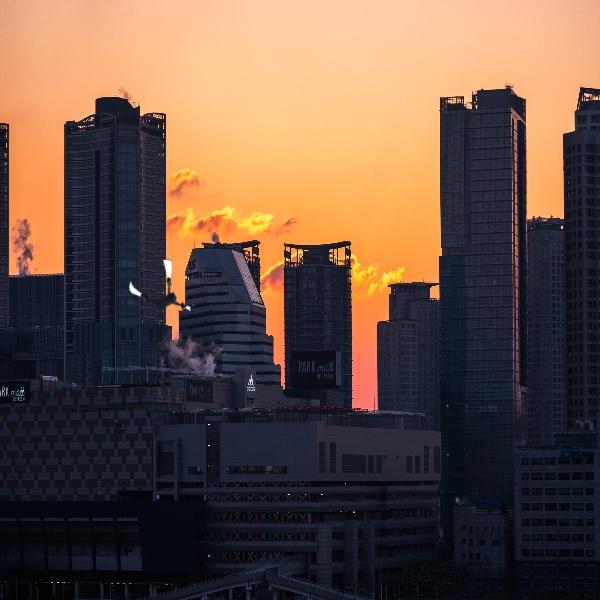drone: (127, 260, 195, 328)
